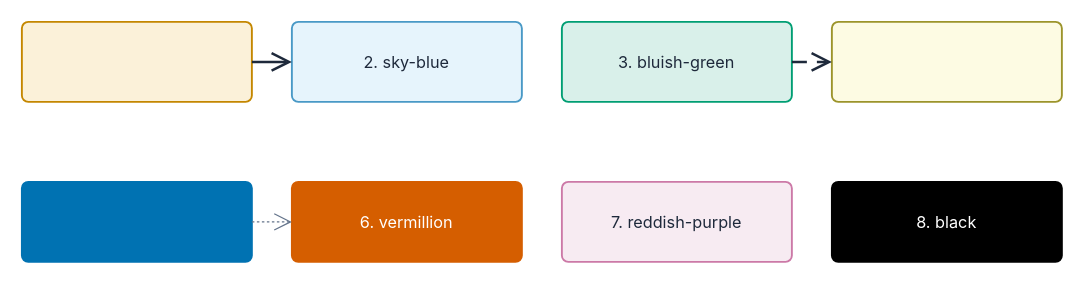
Image size: 1085x285. Some labels were removed from this diagram. Here are the shapes that lost their labels. From the top down, the centre of each, then its label:
(136,61): 1. orange
(946,61): 4. yellow
(136,221): 5. blue
